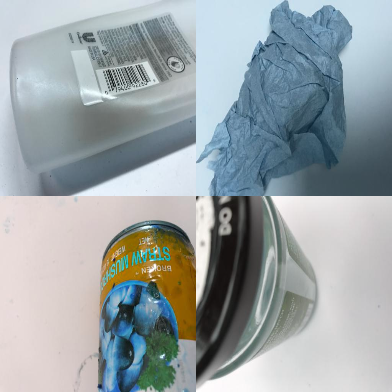glass: (195, 195, 317, 387)
metal: (100, 221, 195, 392)
paper: (197, 1, 353, 194)
plastic: (10, 1, 196, 176)
